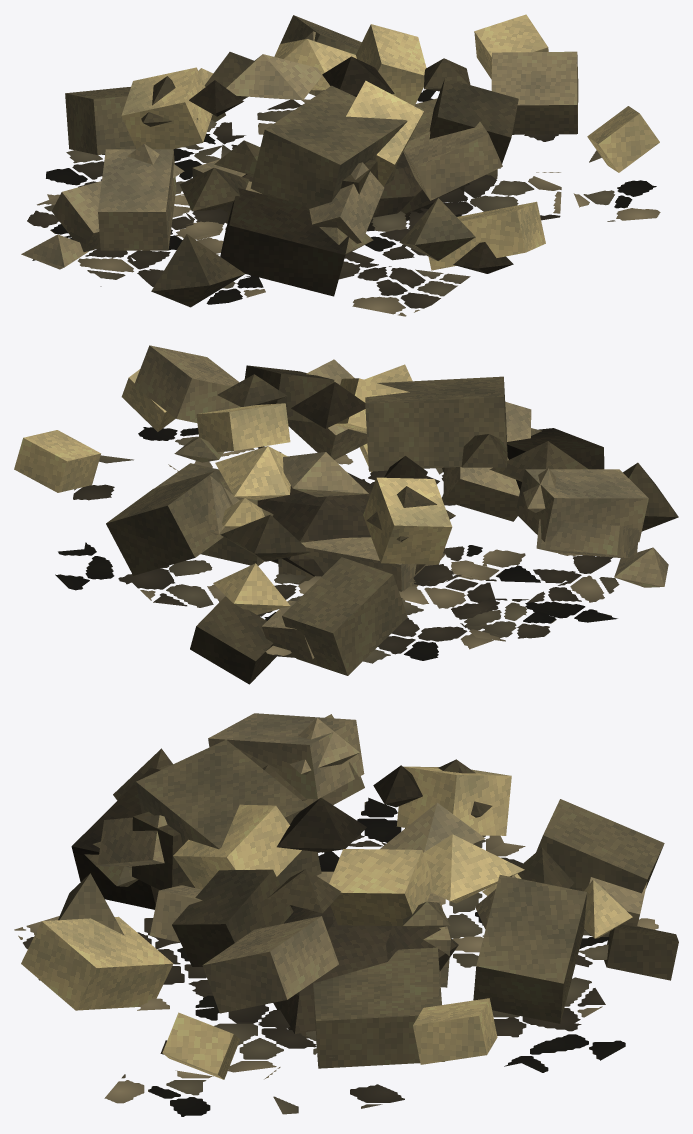
File: CreFence02a.glb
The picture shows the model from 3 angles, top to bottom: view 1: azimuth 30°, elevation 25°; view 2: azimuth 150°, elevation 25°; view 3: azimuth 270°, elevation 25°; orthographic projection. The views are drawn at different scales.
Parts seen in each view (by area): view 1: f2_st; view 2: f2_st; view 3: f2_st.
Part boxes in pixels (box(x1,y1,x2,y2)): f2_st: box(21, 14, 660, 316); f2_st: box(14, 345, 678, 684); f2_st: box(14, 713, 678, 1116).
Bounding box in the file's own units: 1.28 × 0.3711 × 1.06.
Materials: 2 (2 with a texture image).
